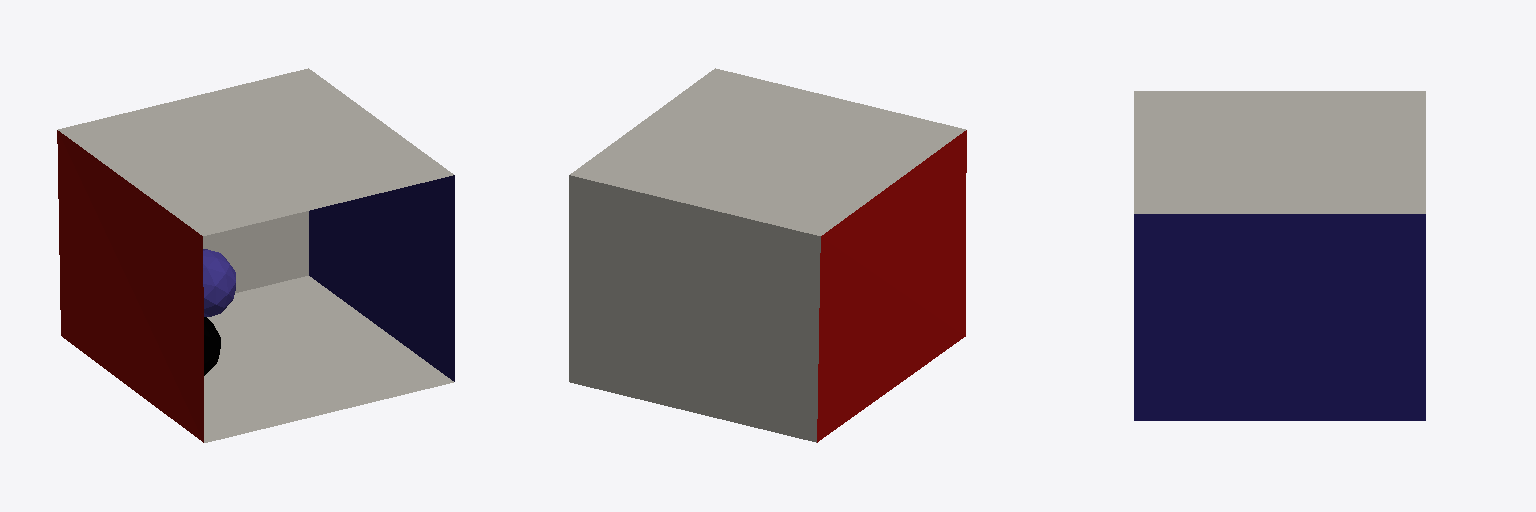
The model's file is CornellBox-Sphere-921.obj.
3 views of the same model, side by side, from view 1: azimuth 30°, elevation 25°; view 2: azimuth 150°, elevation 25°; view 3: azimuth 270°, elevation 25° (orthographic).
Parts seen in each view (by area): view 1: ceiling, leftWall, floor, rightWall, backWall, leftSphere, rightSphere; view 2: backWall, ceiling, leftWall; view 3: rightWall, ceiling.
Part boxes in pixels (left/top/right/bottom): ceiling: left=58, top=68, right=453, bottom=235; leftWall: left=57, top=130, right=203, bottom=442; floor: left=204, top=276, right=453, bottom=442; rightWall: left=309, top=175, right=454, bottom=381; backWall: left=203, top=211, right=308, bottom=292; leftSphere: left=203, top=249, right=235, bottom=316; rightSphere: left=204, top=317, right=220, bottom=375; backWall: left=569, top=175, right=820, bottom=442; ceiling: left=570, top=68, right=965, bottom=235; leftWall: left=817, top=130, right=966, bottom=442; rightWall: left=1134, top=214, right=1425, bottom=420; ceiling: left=1134, top=91, right=1425, bottom=213.
Bounding box in the file's own units: 2.02 × 1.59 × 2.03.